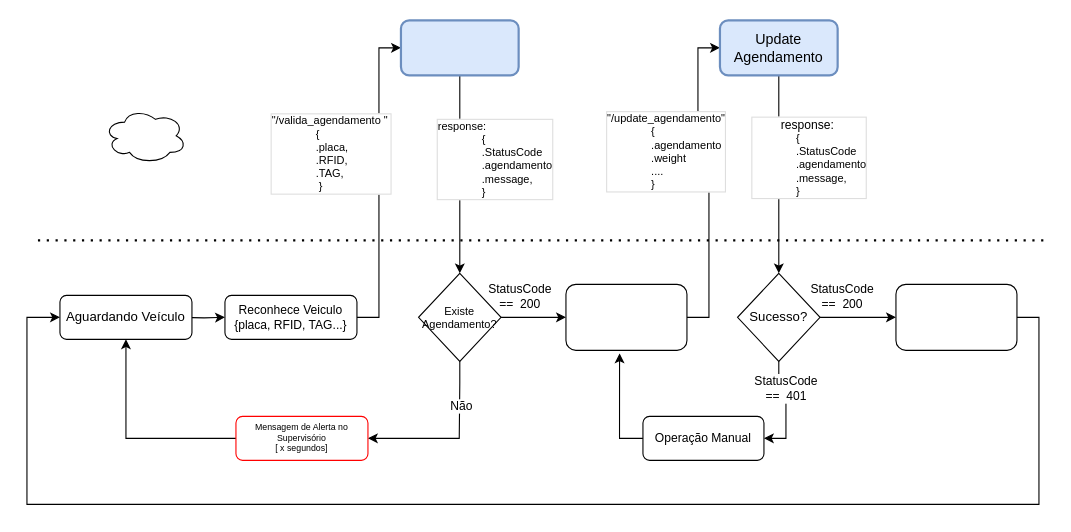
This 1071x532 diagram has some shape labels left out. The shapes that lost their labels are listed below. From the top down, each one's centre as x and y in pixels, then its label:
pixel 459 47: Validar Agendamento
pixel 626 316: Lógica do Gate
pixel 956 316: Finaliza Gate
